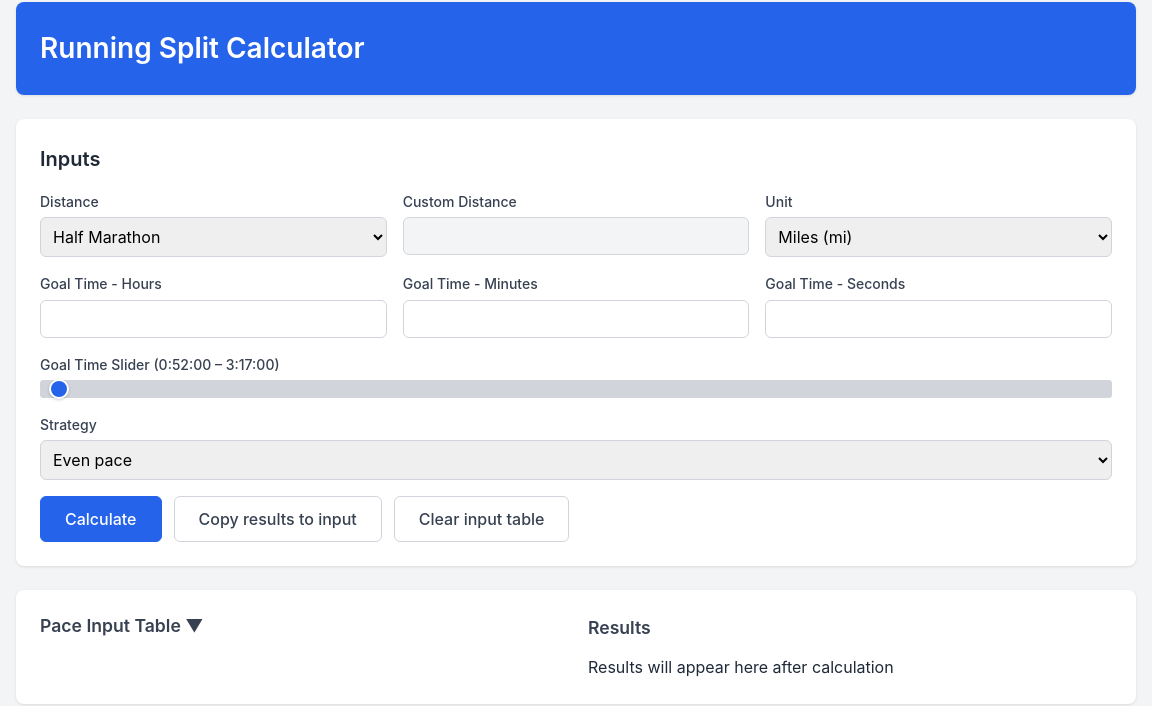
Test: UI Copy and Clear functionality › Clear input table › should clear all pace inputs
The image size is (1152, 706).
Click the button "Pace Input Table ▼" at (113, 626), box left=40, top=615, right=564, bottom=648
(page scrolled)
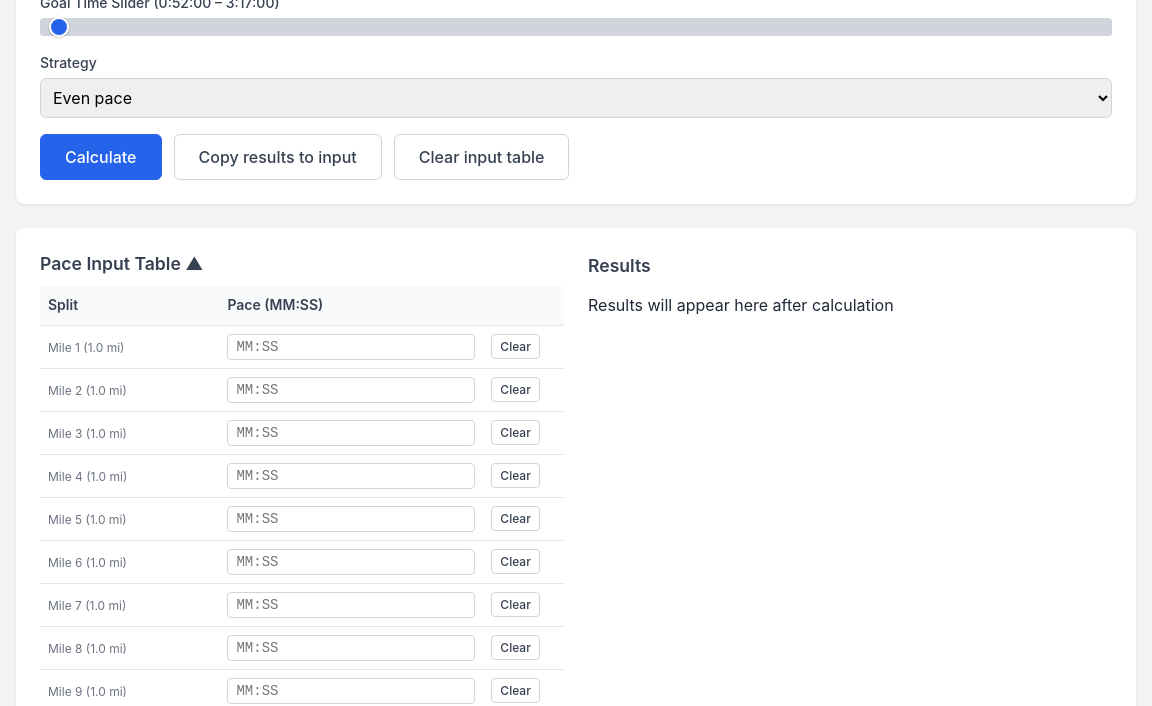
Type "05:00" into the field with placeholder "MM:SS" next to "Mile 1 (1.0 mi)" at (351, 347), box left=227, top=334, right=475, bottom=360
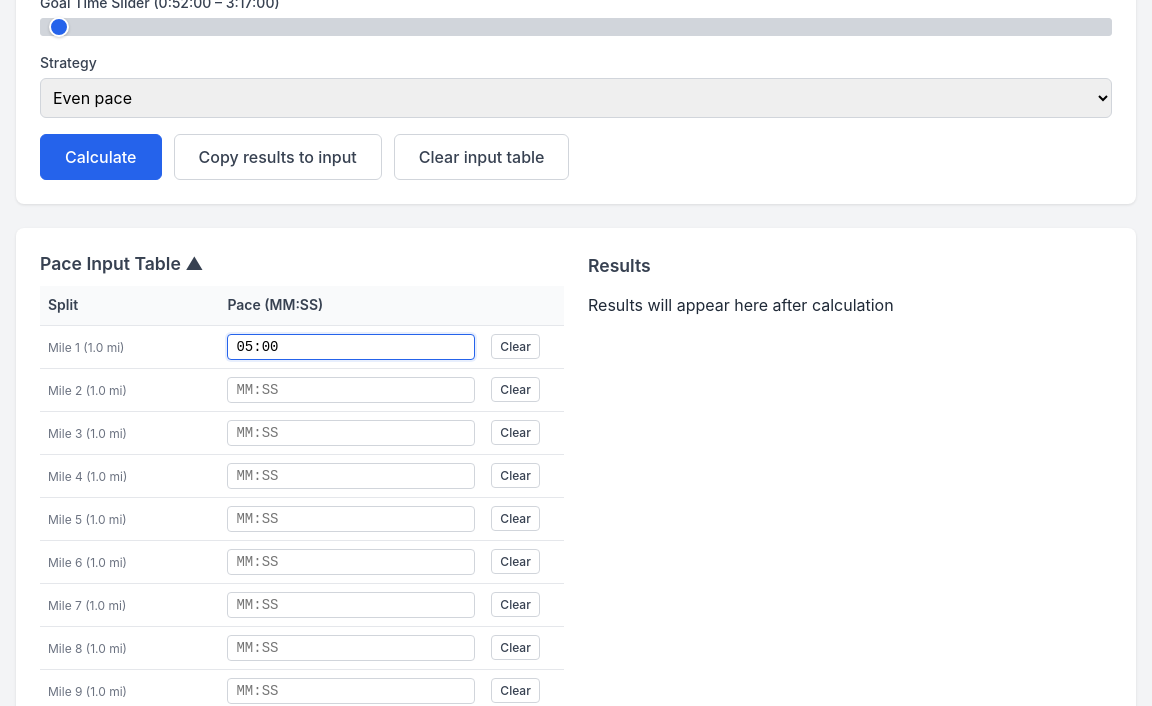
Type "05:30" into the field with placeholder "MM:SS" next to "Mile 3 (1.0 mi)" at (351, 433), box left=227, top=420, right=475, bottom=446
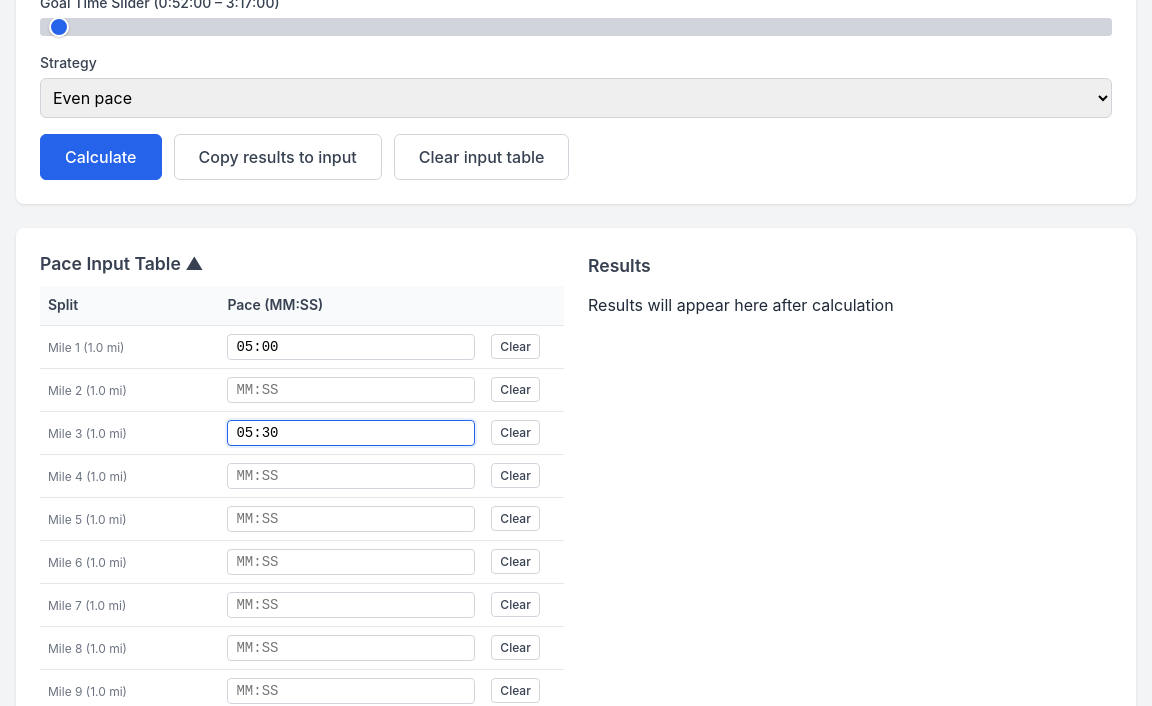
Click the button "Clear input table" at (482, 157), box left=394, top=134, right=570, bottom=180
(page scrolled)
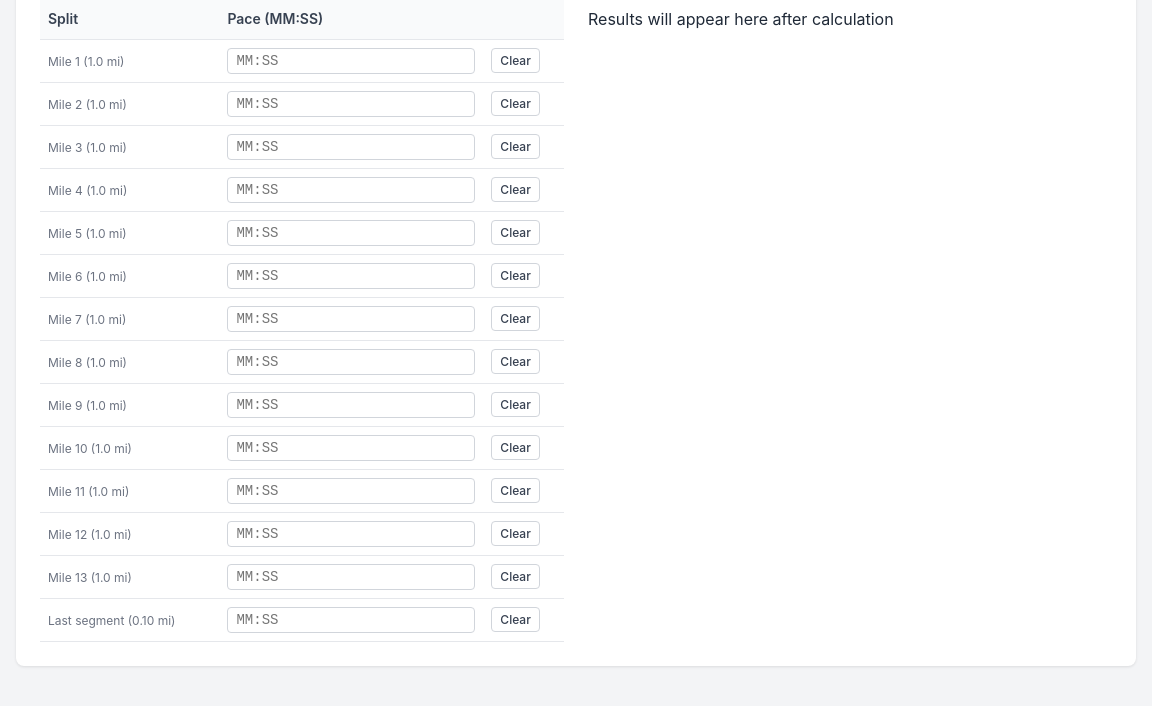
Check: the field with placeholder "MM:SS" next to "Mile 2 (1.0 mi)" is empty, box left=227, top=91, right=475, bottom=117
Check: the field with placeholder "MM:SS" next to "Mile 1 (1.0 mi)" is empty, box left=227, top=48, right=475, bottom=74
Check: the field with placeholder "MM:SS" next to "Mile 3 (1.0 mi)" is empty, box left=227, top=134, right=475, bottom=160
